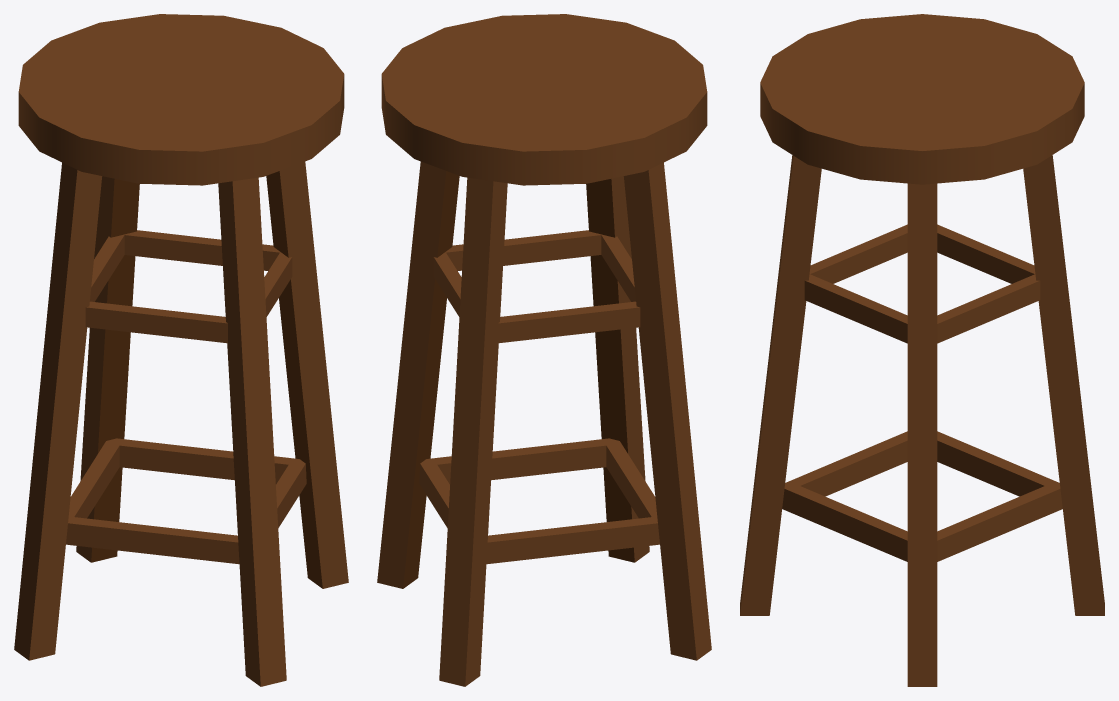
Rendered from Stool.fbx.
3 renders of one model, left to right at view 1: azimuth 30°, elevation 25°; view 2: azimuth 150°, elevation 25°; view 3: azimuth 270°, elevation 25°, orthographic.
Parts seen in each view (by area): view 1: Prop_KitchenChair_02; view 2: Prop_KitchenChair_02; view 3: Prop_KitchenChair_02.
Part boxes in pixels (x1,y1,x2,y2): Prop_KitchenChair_02: [14, 14, 348, 686]; Prop_KitchenChair_02: [377, 14, 711, 686]; Prop_KitchenChair_02: [740, 14, 1104, 686].
Bounding box in the file's own units: 51.8 × 82.58 × 51.8.
1 material, 1 textured.
